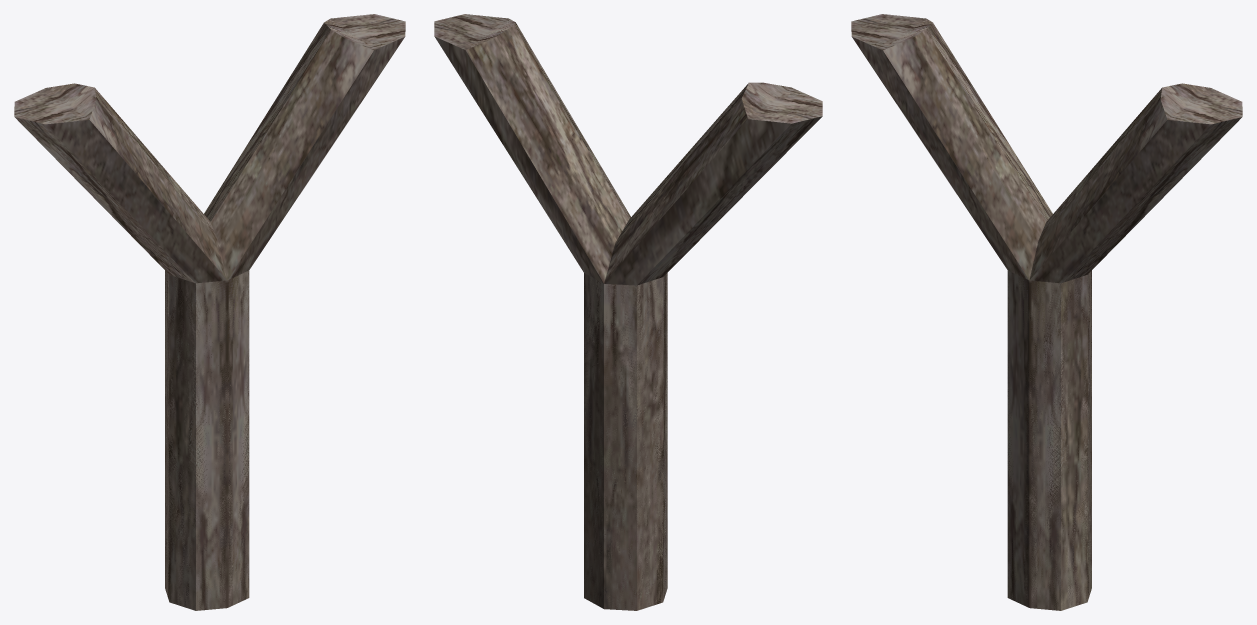
Rendered from WoodenThingForFishing.fbx.
3 views of the same model, side by side, from view 1: azimuth 30°, elevation 25°; view 2: azimuth 150°, elevation 25°; view 3: azimuth 330°, elevation 25° (orthographic).
Visible parts, largest first — view 1: Cylinder; view 2: Cylinder; view 3: Cylinder.
Part boxes in pixels (x1=…): Cylinder: x1=14, y1=14, x2=405, y2=610; Cylinder: x1=434, y1=14, x2=822, y2=610; Cylinder: x1=851, y1=14, x2=1242, y2=610.
Bounding box in the file's own units: 7.32 × 9.64 × 1.5.
Materials: 1 (1 with a texture image).
